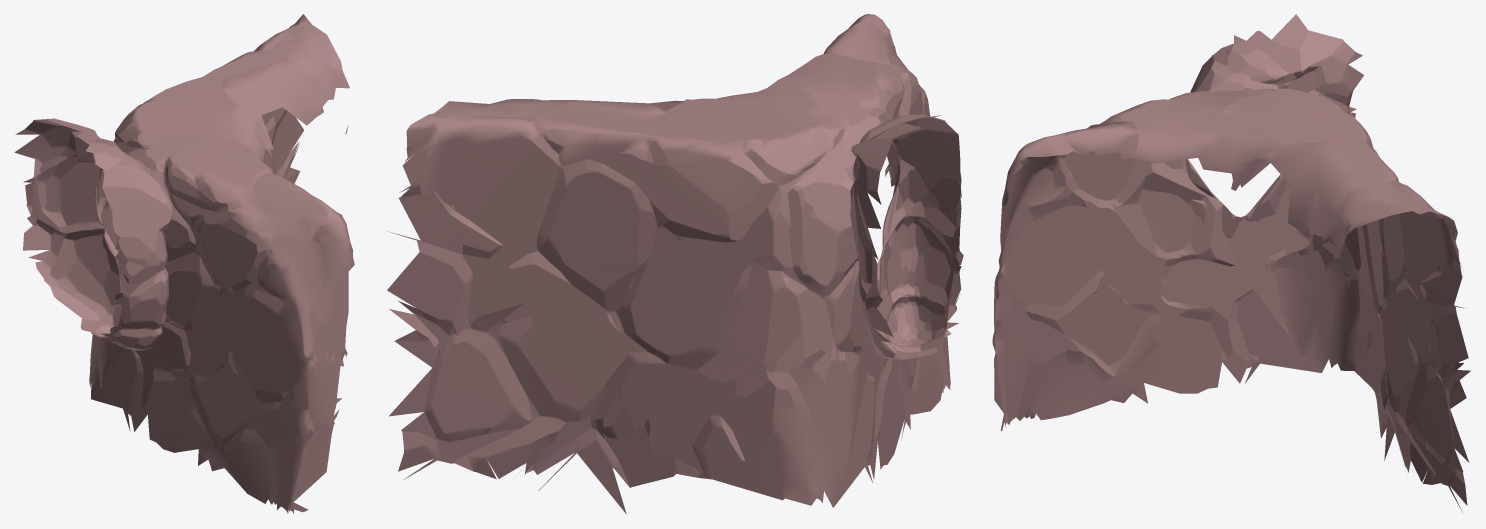
File: canyon.fbx_PolyShape__3__023LODs.fbx
3 views of the same model, side by side, from view 1: azimuth 30°, elevation 25°; view 2: azimuth 150°, elevation 25°; view 3: azimuth 270°, elevation 25° (orthographic). The views are drawn at different scales.
Visible parts, largest first — view 1: PolyShape (3).023_LOD0; view 2: PolyShape (3).023_LOD0; view 3: PolyShape (3).023_LOD0.
Part boxes in pixels (<box>): PolyShape (3).023_LOD0: <box>14,14,354,513</box>; PolyShape (3).023_LOD0: <box>387,14,963,514</box>; PolyShape (3).023_LOD0: <box>992,14,1470,512</box>.
Size of what is drawn, in the model's own units: 4817 by 4390 by 5385.
